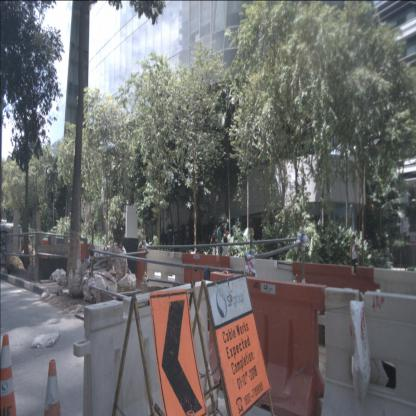barrier: (74, 279, 218, 416), (205, 270, 327, 416), (317, 286, 416, 416), (292, 261, 380, 357), (230, 256, 296, 343), (373, 268, 415, 368), (181, 252, 234, 308), (145, 249, 184, 302), (115, 247, 148, 293), (90, 244, 116, 272), (67, 242, 92, 270)
cone: (0, 334, 17, 416), (43, 359, 62, 416)
